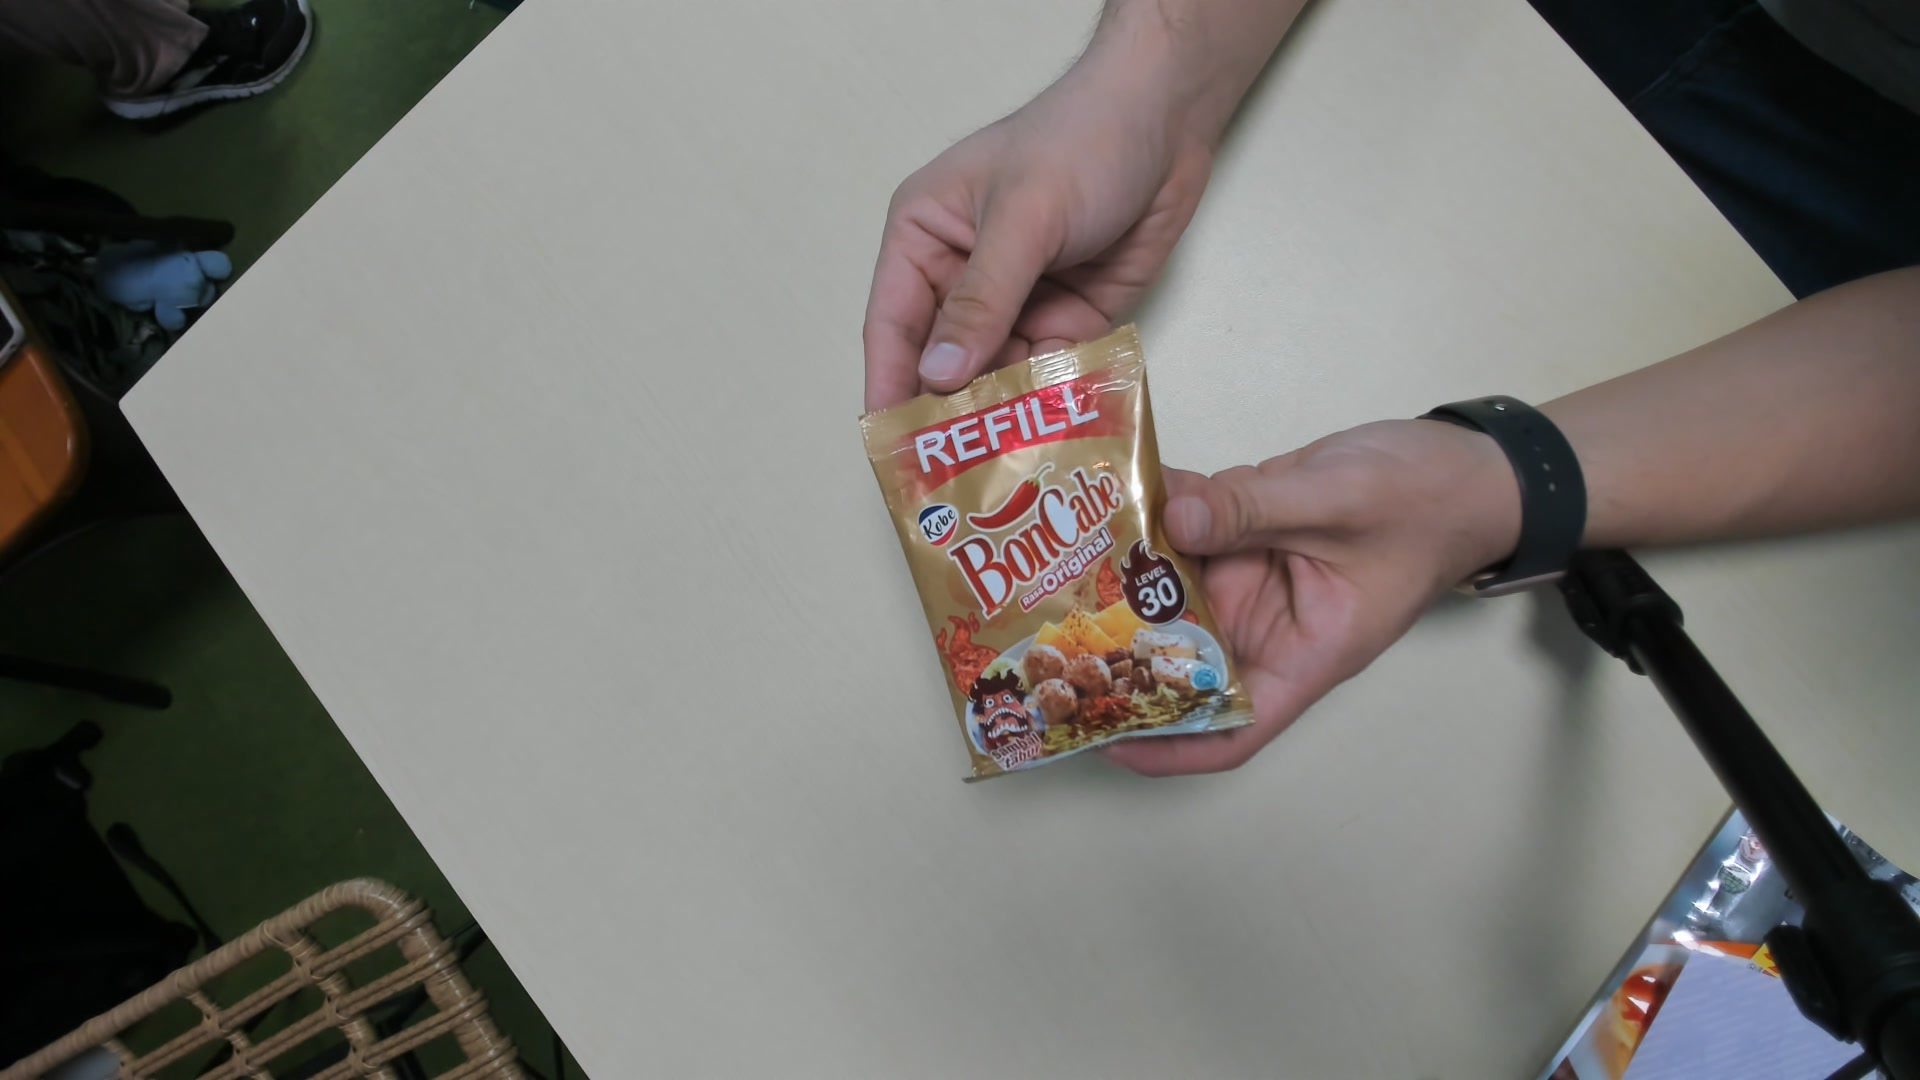CurryPastePowderSauce_0-99g_Halal_NonHealthy: (872, 326, 1253, 790)
